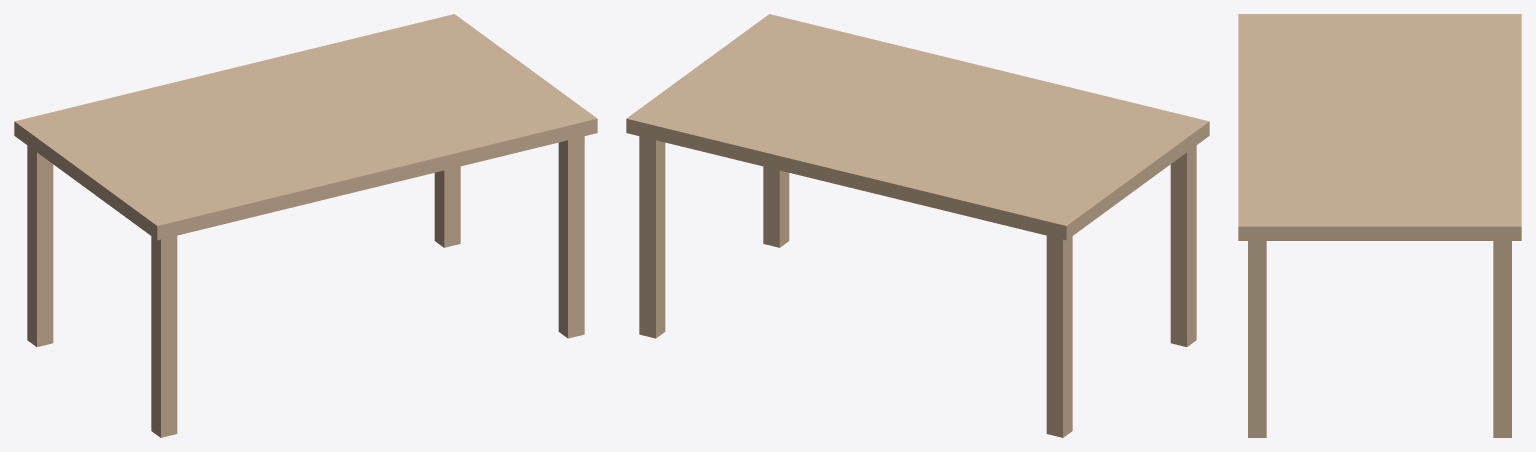
File: dining_table.glb
3 renders of one model, left to right at view 1: azimuth 30°, elevation 25°; view 2: azimuth 150°, elevation 25°; view 3: azimuth 270°, elevation 25°, orthographic.
Visible parts, largest first — view 1: dining_table; view 2: dining_table; view 3: dining_table.
Boxes of the visible parts, <box> form: dining_table: <box>14,14,597,437</box>; dining_table: <box>626,14,1209,437</box>; dining_table: <box>1238,14,1521,437</box>.
Bounding box in the file's own units: 1.6 × 0.755 × 0.9.
